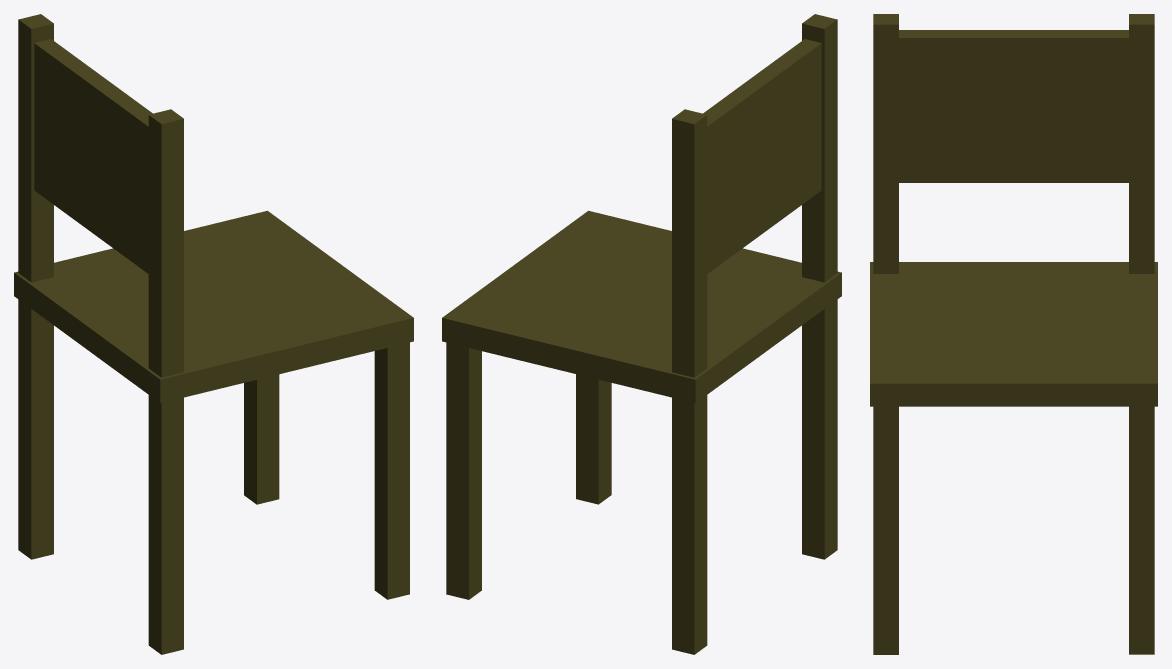
Rendered from chair.glb.
3 renders of one model, left to right at view 1: azimuth 30°, elevation 25°; view 2: azimuth 150°, elevation 25°; view 3: azimuth 270°, elevation 25°, orthographic.
Visible parts, largest first — view 1: chair; view 2: chair; view 3: chair.
Part boxes in pixels (x1,y1,x2,y2): chair: (14,14,413,654); chair: (442,14,841,654); chair: (870,14,1157,654).
Size of the model in its own units: 0.45 by 0.9 by 0.45.
